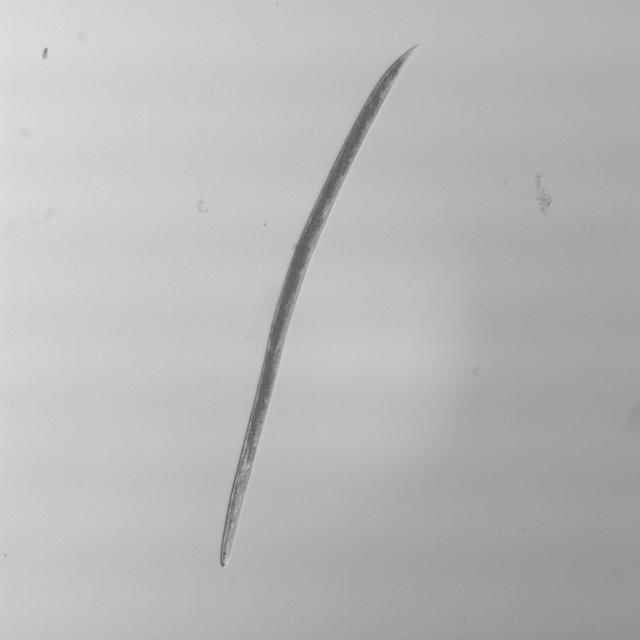Radopholus: (212, 38, 430, 573)
